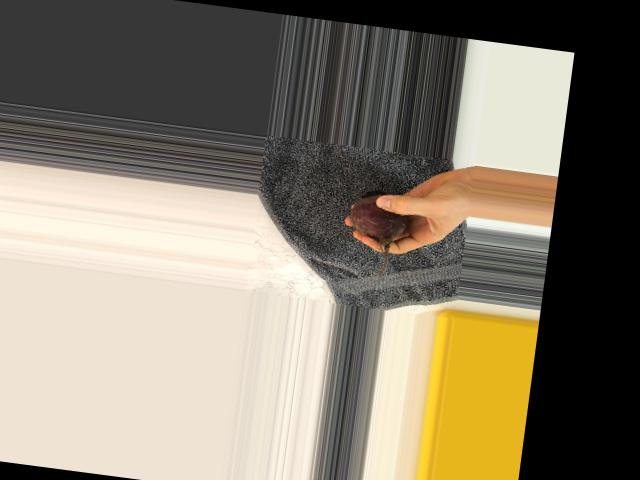beet: (342, 186, 411, 280)
